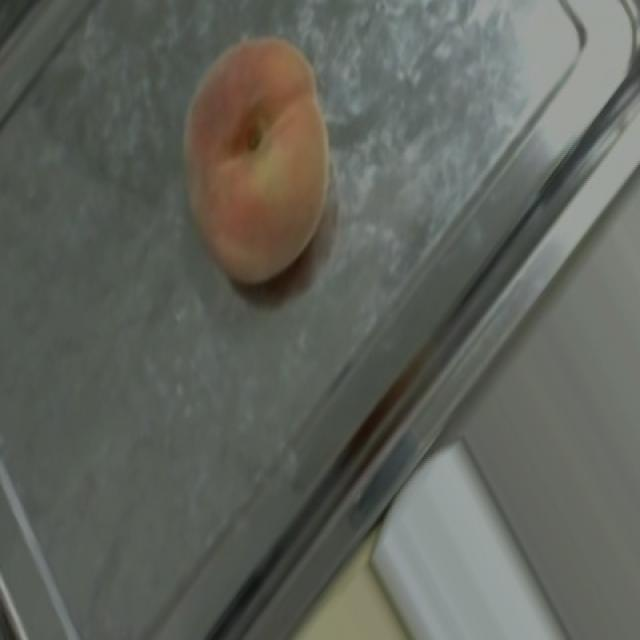Fruit: (134, 8, 374, 320)
